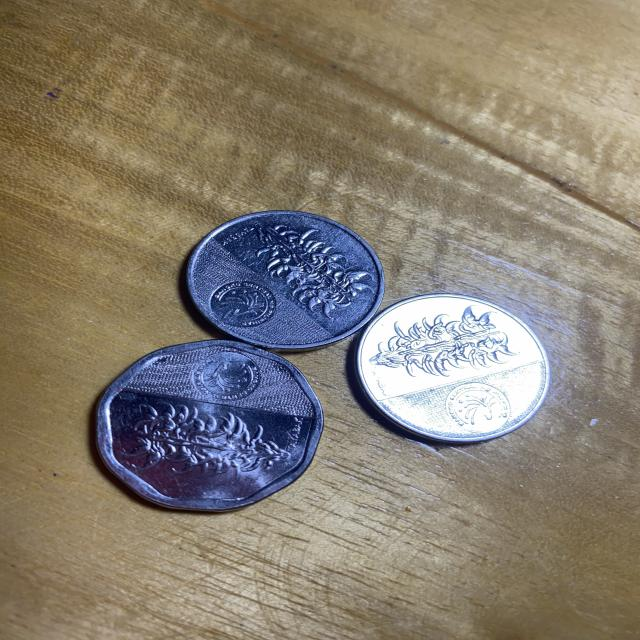5_New_Back: (254, 218, 365, 316), (129, 409, 289, 473), (378, 310, 512, 372)
